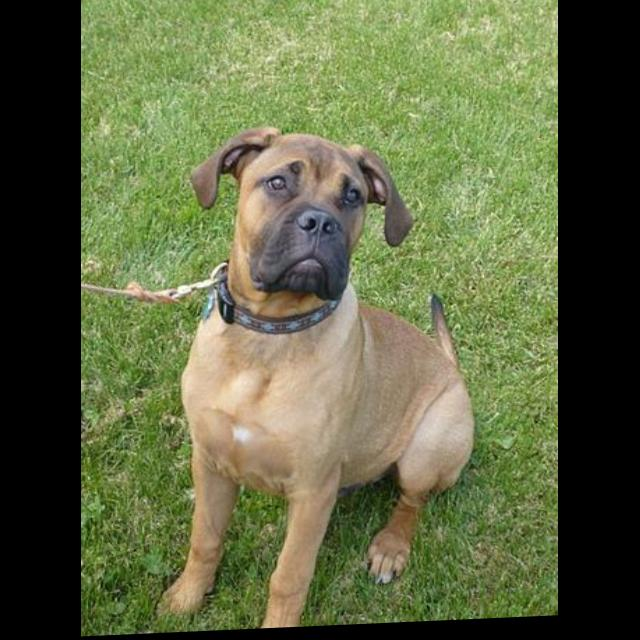bullmastiff: (150, 120, 479, 636)
